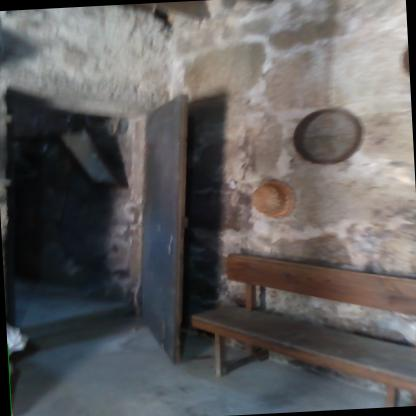open: (0, 85, 209, 368)
